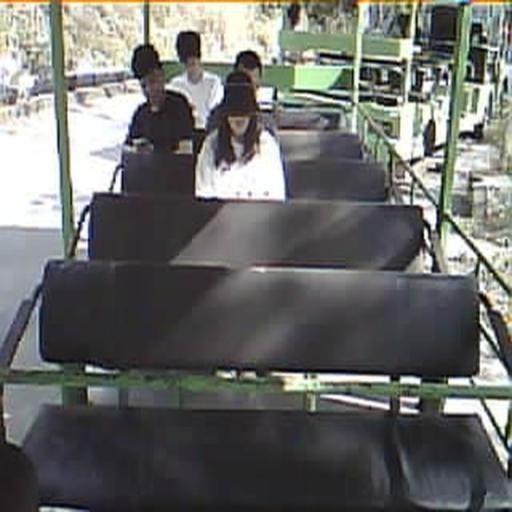persona: (194, 81, 288, 202), (125, 43, 195, 153), (168, 29, 225, 130), (206, 49, 262, 128)
